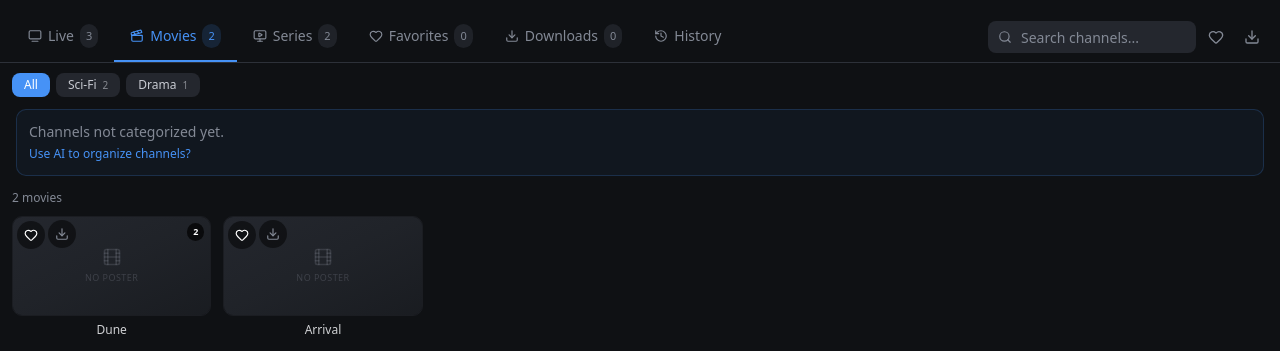
Test: ChannelList filters › says so when the heart filter leaves nothing
Click the button named "Show favorites only": [1216, 37] box x1=1200 y1=21 x2=1232 y2=53
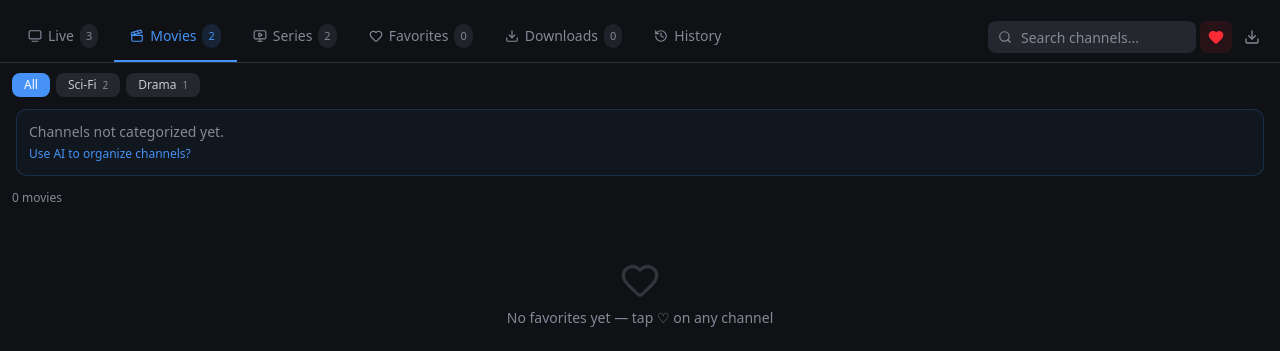
Now the text "No favorites yet — tap ♡ on any channel" is shown, box x1=507 y1=308 x2=773 y2=328
